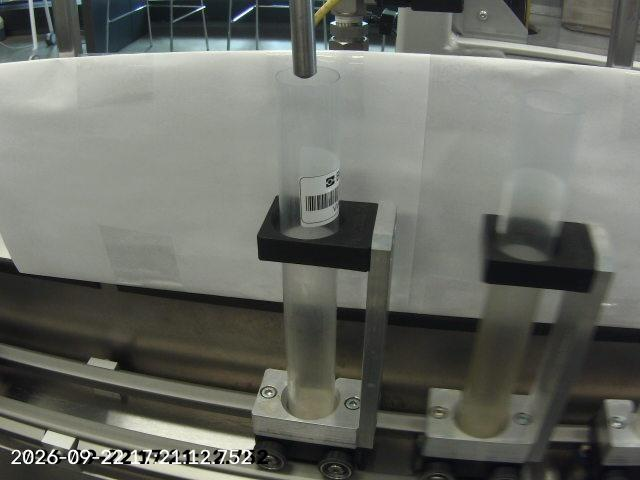vial: (450, 89, 592, 440), (271, 64, 343, 416)
